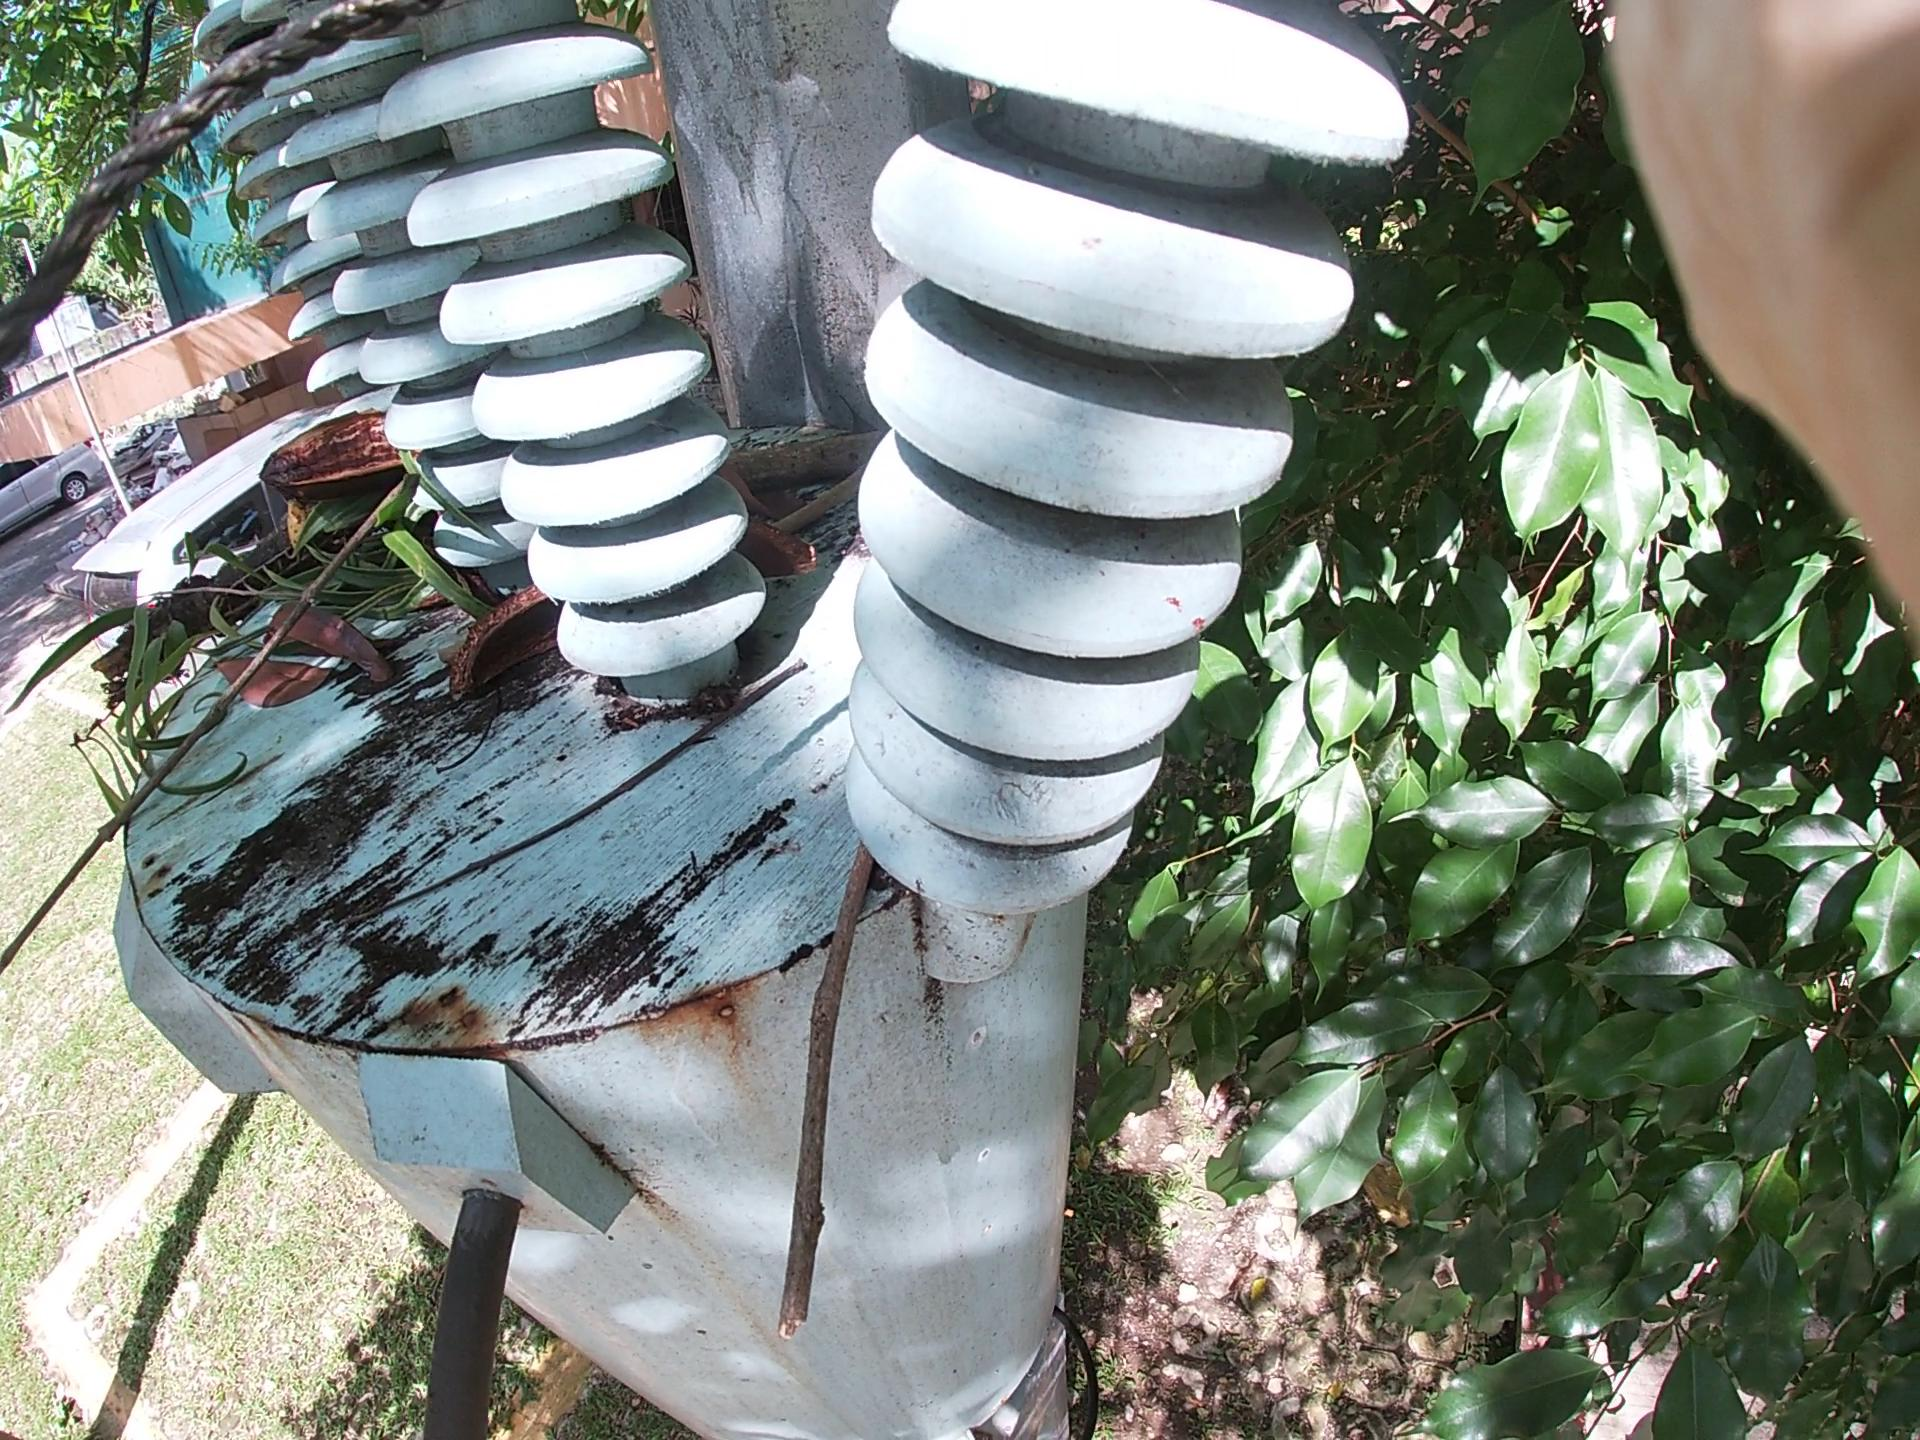branch with leaves: (68, 383, 413, 790)
leaf: (219, 522, 452, 717), (183, 588, 376, 734)
mahogany fruit: (363, 529, 708, 684), (200, 357, 419, 554)
tree branch: (5, 476, 372, 954), (363, 655, 792, 924), (797, 791, 863, 1337), (741, 399, 945, 523)
